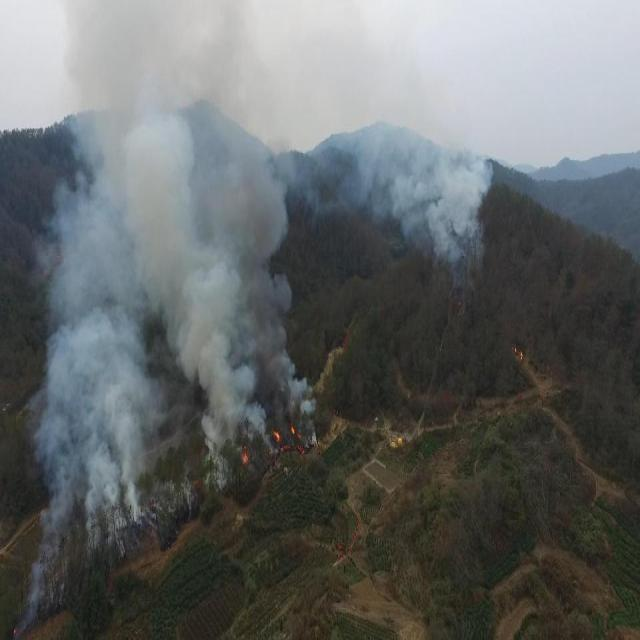Fire: (234, 426, 314, 472)
Smoke: (21, 0, 318, 633), (332, 68, 506, 307)
